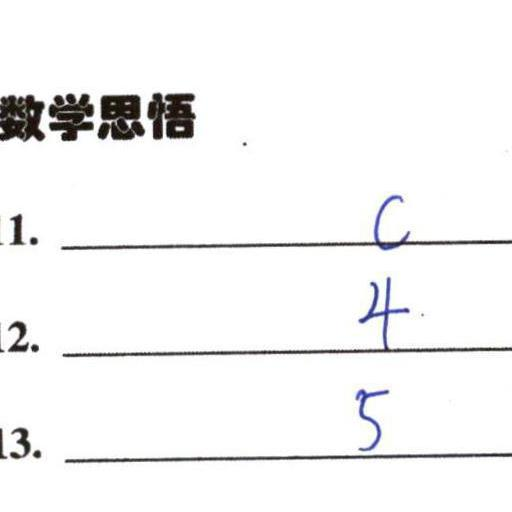ans: (352, 269, 409, 349), (345, 377, 389, 452), (365, 187, 413, 252)
